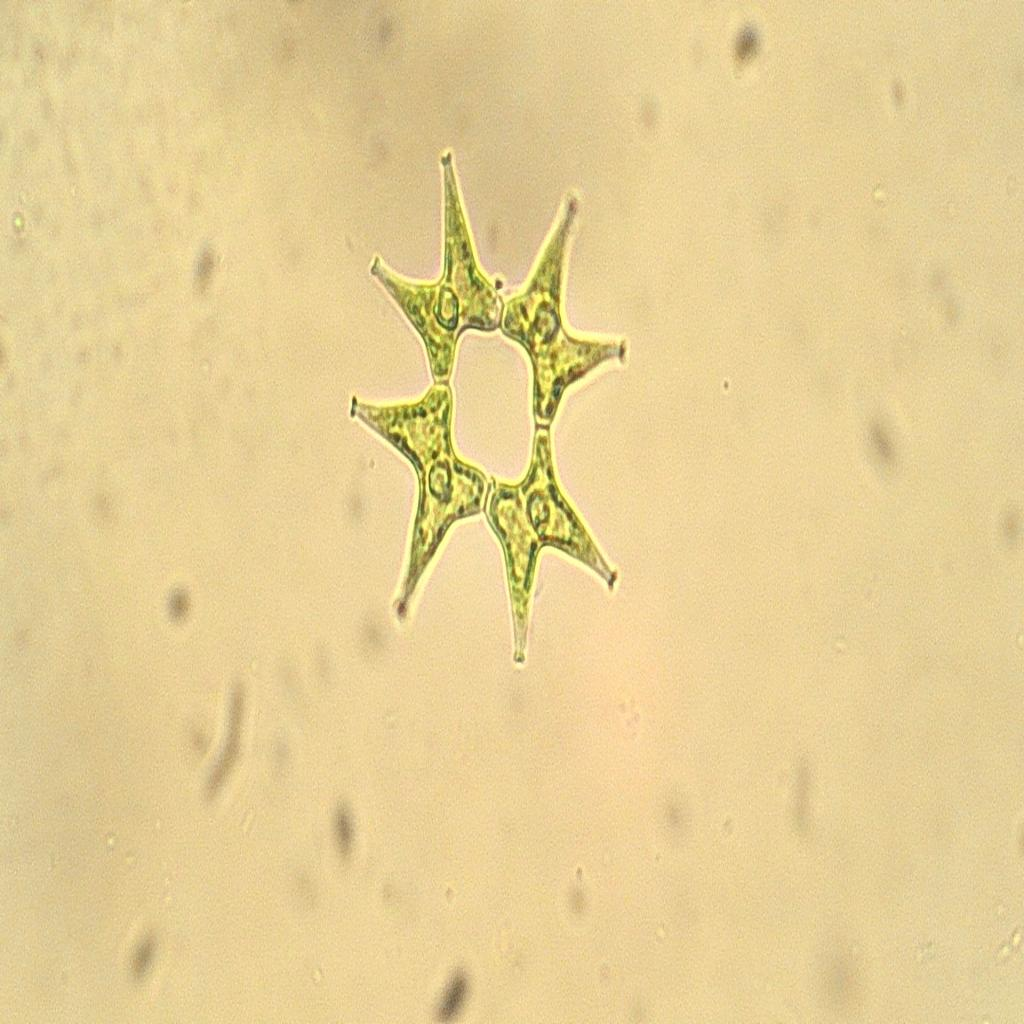Pediastrum_CO: (344, 148, 630, 684)
